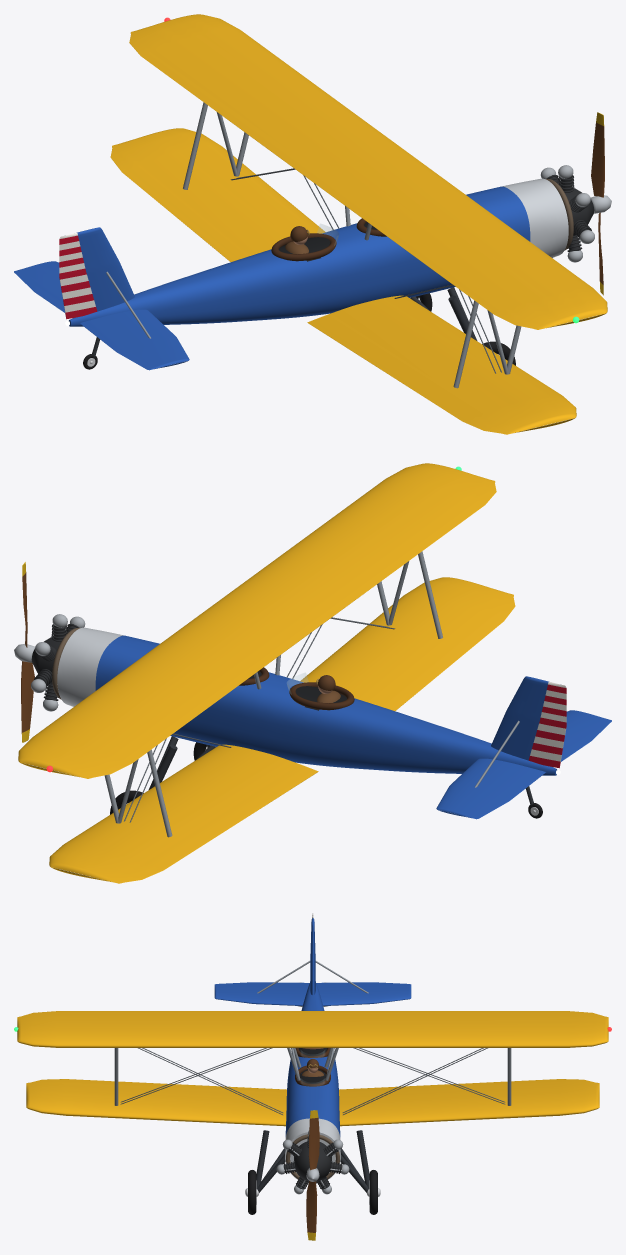
The model's file is biplane.glb.
3 views of the same model, one above another, from view 1: azimuth 30°, elevation 25°; view 2: azimuth 150°, elevation 25°; view 3: azimuth 270°, elevation 25° (orthographic). The views are drawn at different scales.
Parts seen in each view (by area): view 1: fuselage, wing_upper_r, wing_upper_l, wing_lower_r, wing_lower_l, fin, tailplane_r, struts, tailplane_l, prop_blade_a, engine_heads, coaming_1 (+3 smaller); view 2: fuselage, wing_upper_l, wing_upper_r, wing_lower_l, wing_lower_r, fin, tailplane_l, struts, tailplane_r, engine_heads, prop_blade_b, coaming_1 (+3 smaller); view 3: wing_upper_r, wing_upper_l, wing_lower_r, wing_lower_l, fuselage, tailplane_r, tailplane_l, wires, undercarriage, struts, crankcase, engine_fins (+3 smaller).
Part boxes in pixels (bbox=[...]): fuselage: bbox=[69, 178, 568, 326]; wing_upper_r: bbox=[317, 158, 607, 329]; wing_upper_l: bbox=[129, 14, 415, 184]; wing_lower_r: bbox=[307, 295, 576, 434]; wing_lower_l: bbox=[110, 128, 325, 261]; fin: bbox=[59, 227, 134, 319]; tailplane_r: bbox=[80, 309, 189, 370]; struts: bbox=[183, 102, 521, 388]; tailplane_l: bbox=[14, 261, 64, 312]; prop_blade_a: bbox=[591, 122, 604, 197]; engine_heads: bbox=[540, 165, 594, 262]; coaming_1: bbox=[271, 233, 336, 261]; fuselage: bbox=[57, 627, 556, 775]; wing_upper_l: bbox=[18, 607, 308, 778]; wing_upper_r: bbox=[210, 463, 496, 633]; wing_lower_l: bbox=[49, 744, 318, 883]; wing_lower_r: bbox=[300, 577, 515, 710]; fin: bbox=[491, 676, 566, 768]; tailplane_l: bbox=[436, 758, 545, 819]; struts: bbox=[104, 551, 442, 837]; tailplane_r: bbox=[561, 710, 611, 761]; engine_heads: bbox=[31, 614, 85, 711]; prop_blade_b: bbox=[21, 661, 34, 732]; coaming_1: bbox=[289, 682, 354, 710]; wing_upper_r: bbox=[17, 1011, 312, 1047]; wing_upper_l: bbox=[313, 1011, 608, 1047]; wing_lower_r: bbox=[26, 1079, 286, 1126]; wing_lower_l: bbox=[339, 1079, 599, 1126]; fuselage: bbox=[285, 983, 340, 1183]; tailplane_r: bbox=[214, 982, 309, 1005]; tailplane_l: bbox=[316, 982, 411, 1005]; wires: bbox=[120, 1048, 505, 1114]; undercarriage: bbox=[256, 1130, 369, 1192]; struts: bbox=[114, 1048, 511, 1105]; crankcase: bbox=[294, 1141, 331, 1181]; engine_fins: bbox=[284, 1136, 341, 1189].
Size of the model in its own units: 7.78 by 3.04 by 10.04.
